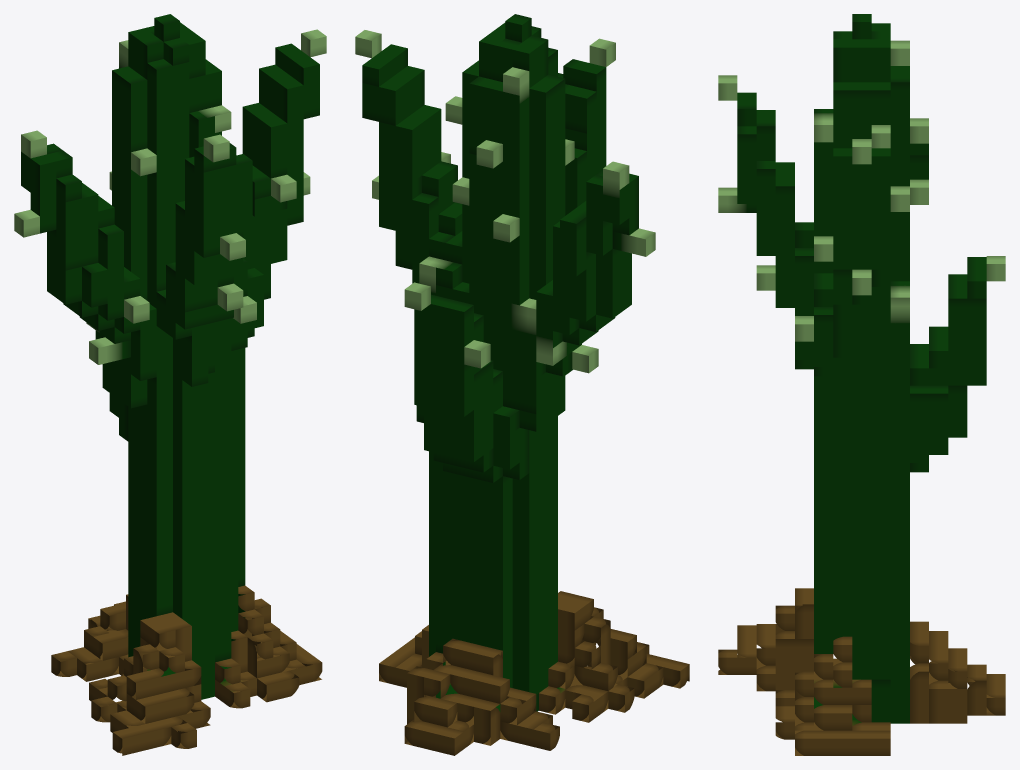
The model's file is Cactus.dae.
3 renders of one model, left to right at view 1: azimuth 30°, elevation 25°; view 2: azimuth 150°, elevation 25°; view 3: azimuth 270°, elevation 25°, orthographic. The views are drawn at different scales.
Visible parts, largest first — view 1: Node-local; view 2: Node-local; view 3: Node-local.
Boxes of the visible parts, left/top/right/bottom form: Node-local: left=14, top=14, right=326, bottom=755; Node-local: left=355, top=14, right=689, bottom=755; Node-local: left=718, top=14, right=1005, bottom=755.
Size of the model in its own units: 18 by 39 by 15.
